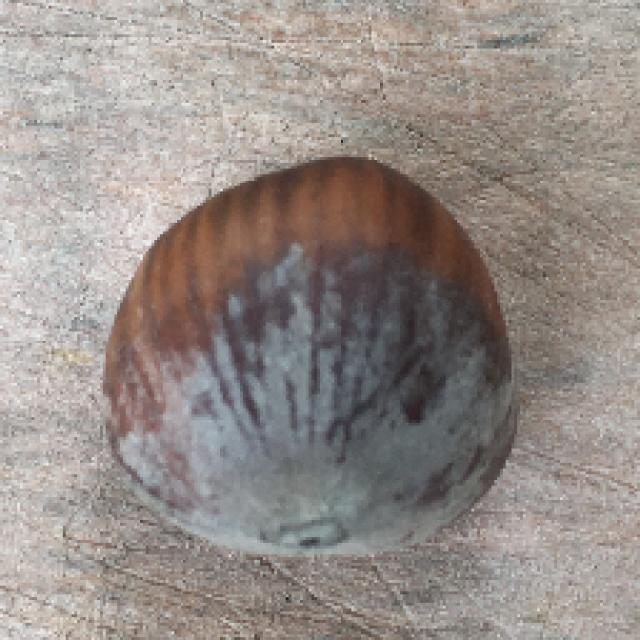DamagedHazelnut: (100, 155, 525, 563)
